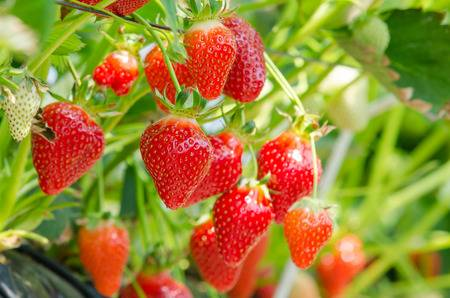ripe_strawberry: (140, 112, 215, 212), (30, 102, 105, 197), (257, 129, 323, 224), (211, 182, 274, 269), (182, 127, 245, 209), (184, 17, 239, 103), (220, 9, 269, 104), (78, 216, 132, 298), (189, 216, 244, 294), (144, 38, 197, 116), (283, 201, 334, 271), (94, 52, 141, 96), (120, 272, 195, 298), (66, 1, 154, 19)
unripe_strawberry: (1, 74, 44, 142)
